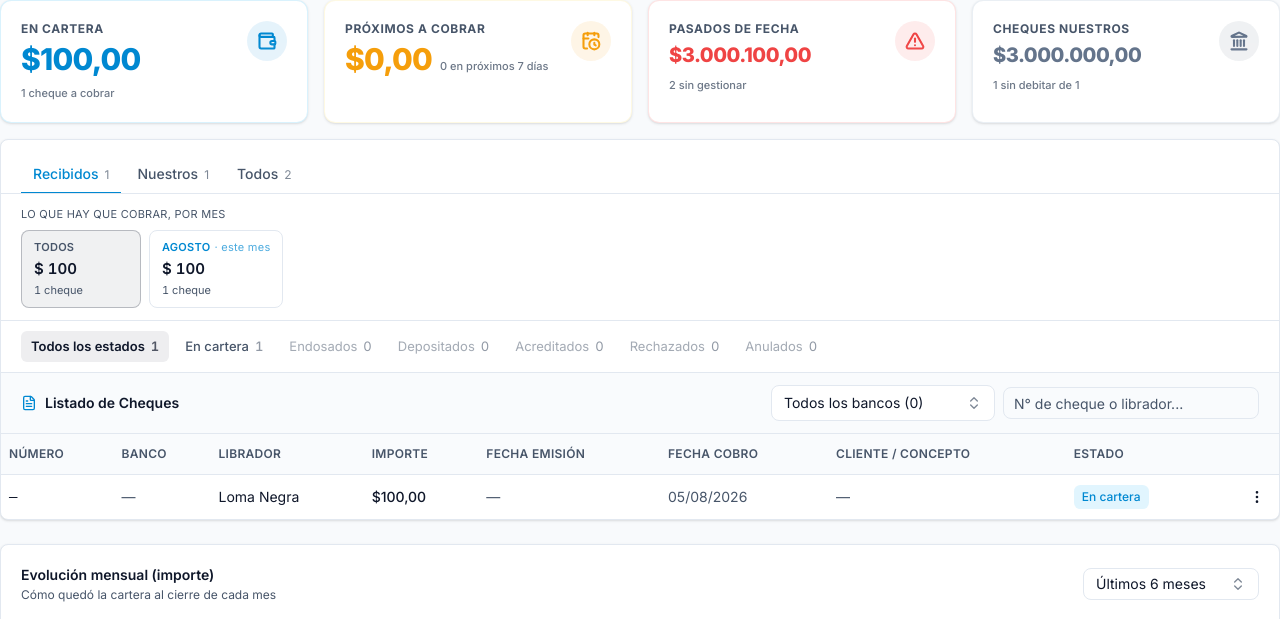
Test: ChequesList — separación por origen › el tab Nuestros muestra el cheque propio y esconde el recibido
What coordinates should you click on to do the following:
click the button "Nuestros1"
I would click on:
 (173, 174)
Its box is [125,156,221,194].
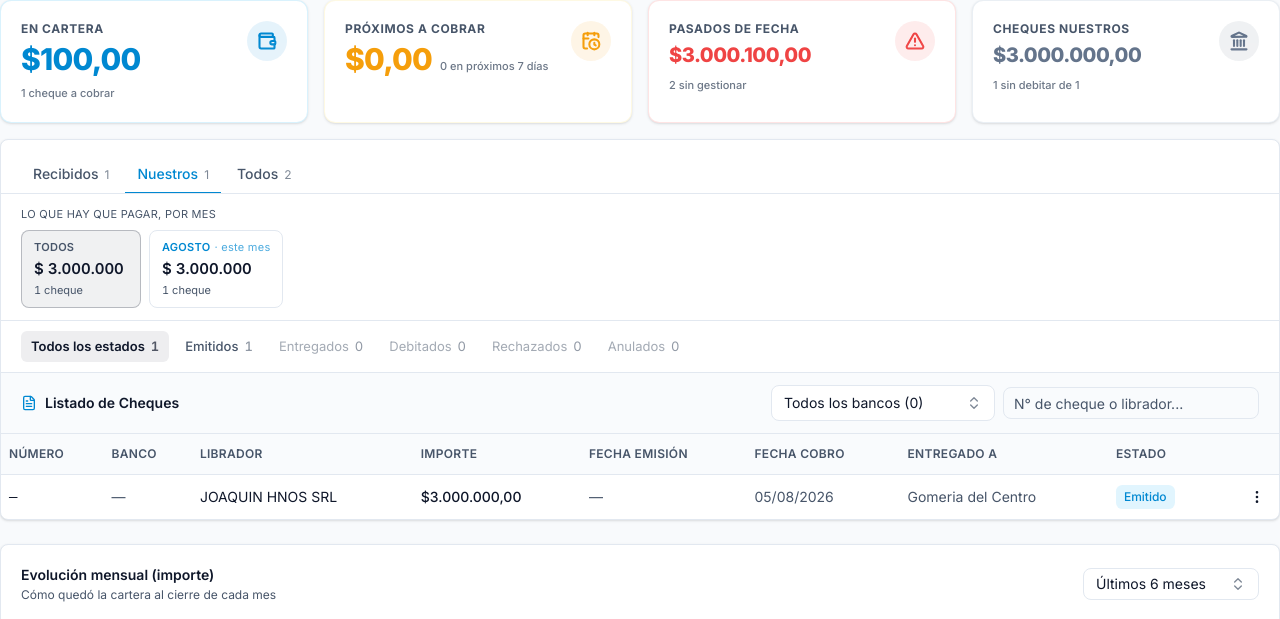
Result: the row named "Abrir el cheque para editarlo" shows "JOAQUIN HNOS SRL" at [200,488,337,504]
Result: the cell no longer shows "Loma Negra"
